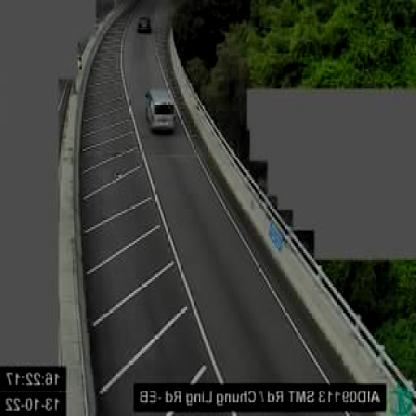Car: (143, 86, 177, 133), (137, 15, 151, 34)
